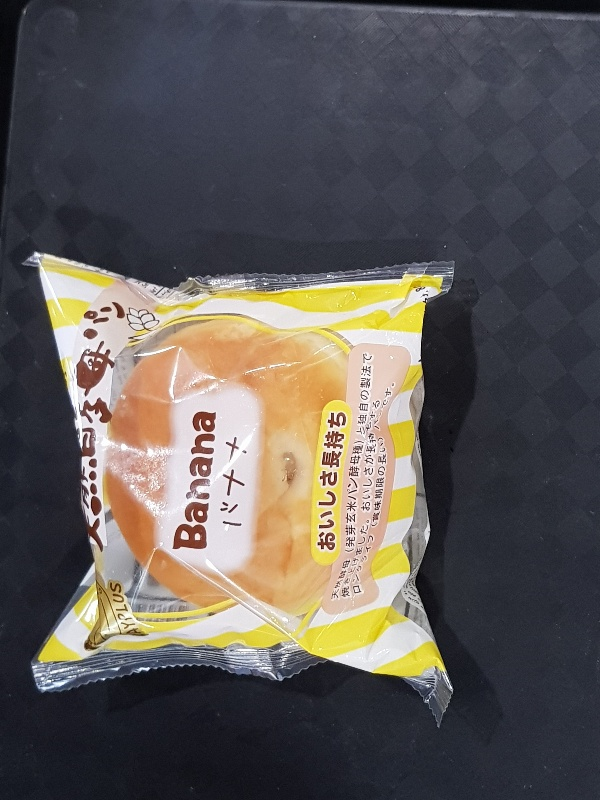Dayplus Banana: (23, 249, 458, 719)
